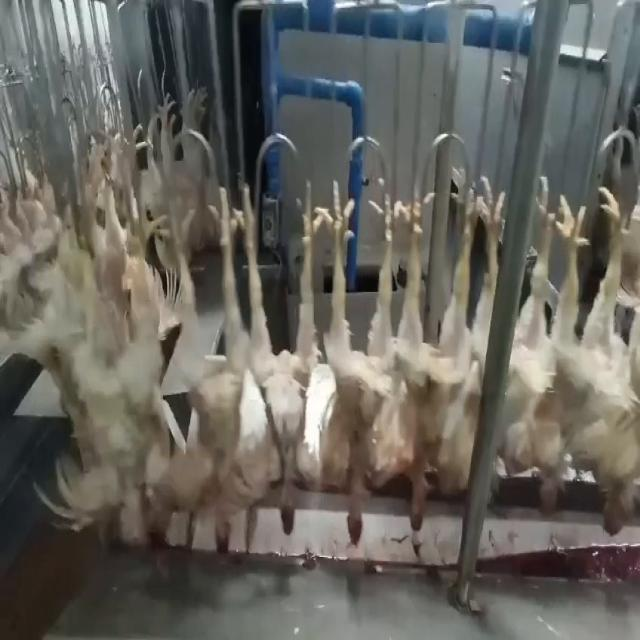chicken: (389, 176, 483, 543), (316, 180, 404, 552), (176, 165, 258, 560), (250, 163, 322, 538), (110, 190, 175, 578), (513, 178, 586, 517), (579, 179, 639, 538), (463, 169, 502, 499)
